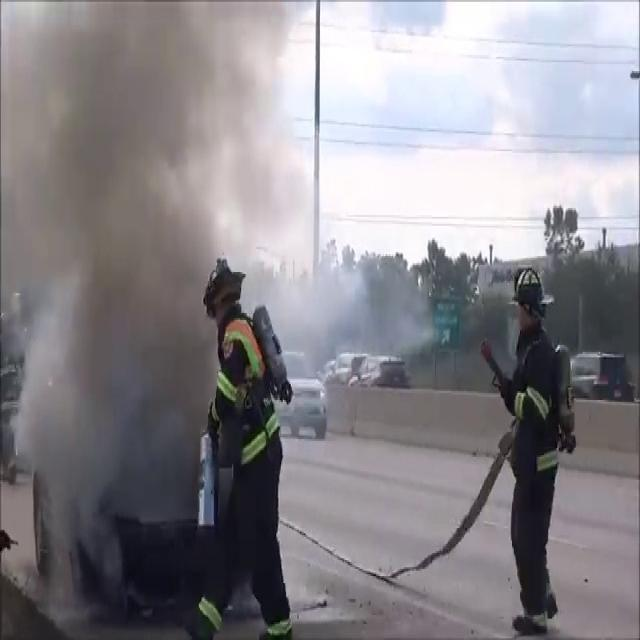Smoke: (2, 2, 316, 608)
